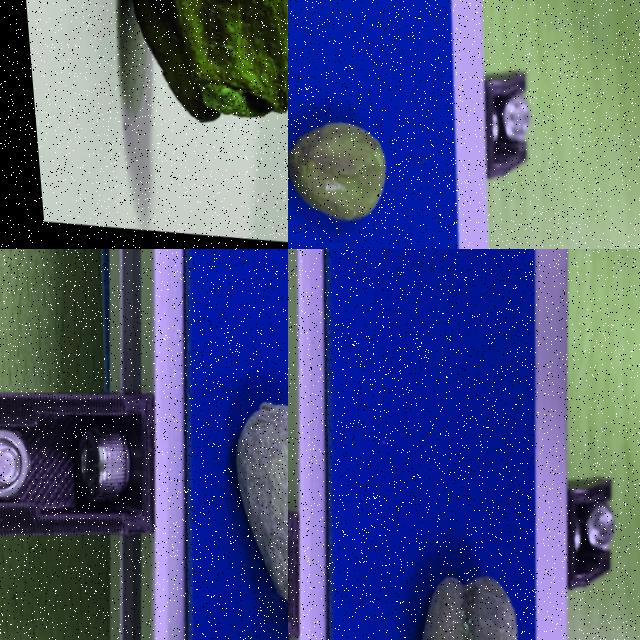Agglomerated_cocoabeans: (26, 0, 287, 230), (145, 302, 287, 639), (338, 427, 546, 639)
Fine_cocoabeans: (288, 0, 432, 248)
